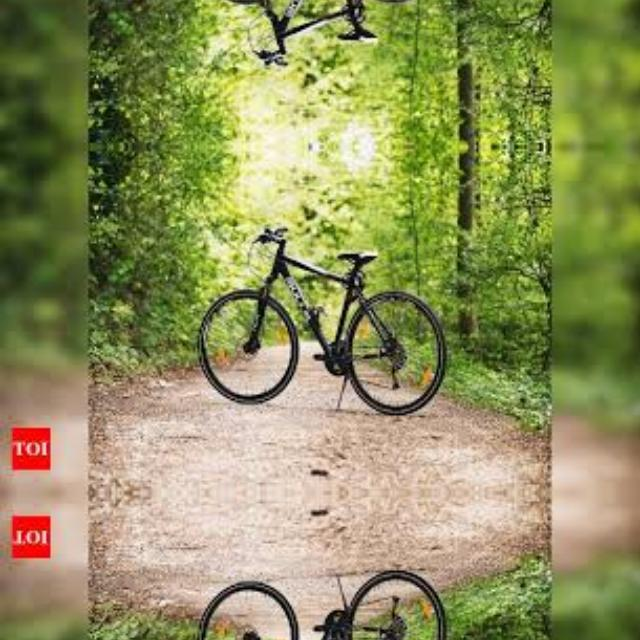obstacle: (198, 218, 457, 422), (197, 562, 456, 640), (197, 0, 456, 74)
